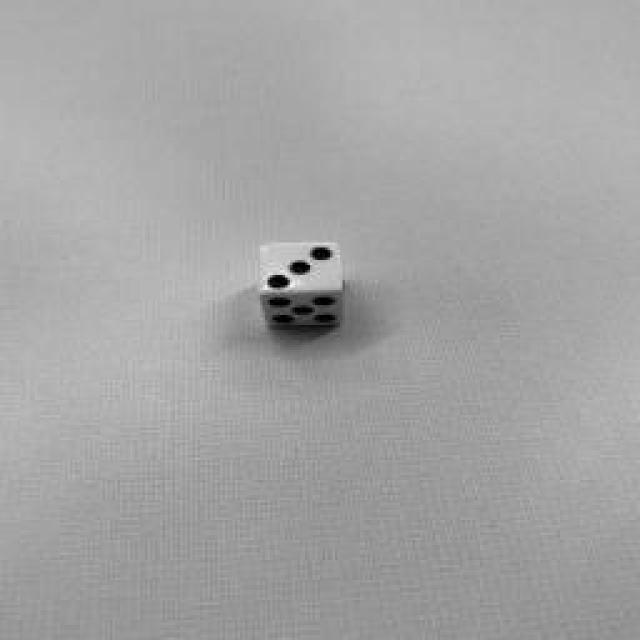dice_3: (258, 243, 342, 295)
